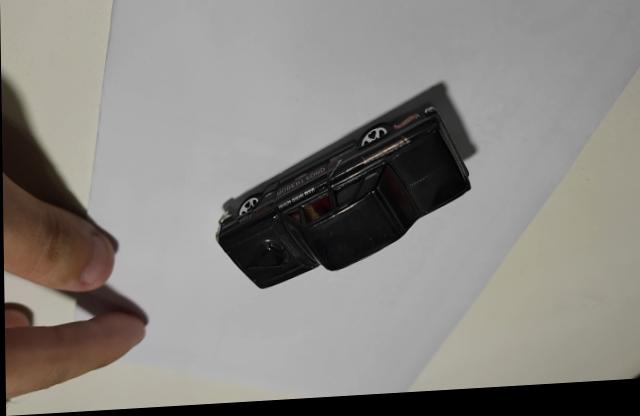01_FORD: (215, 87, 476, 291)
